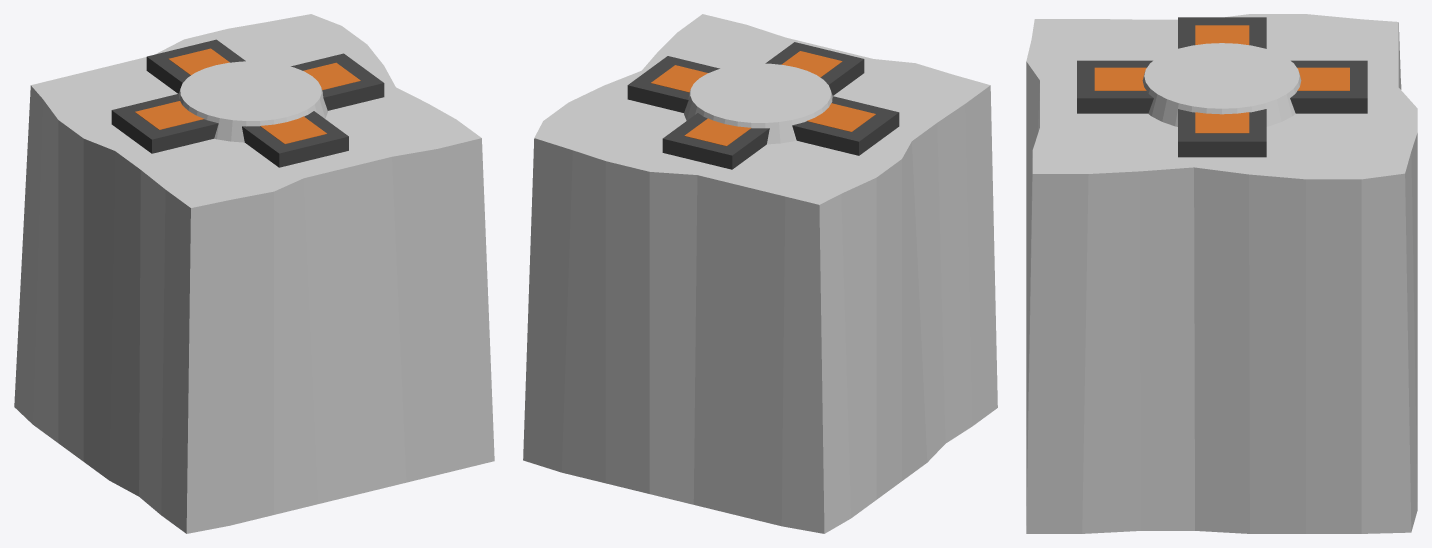
Rendered from repair_new.fbx.
3 renders of one model, left to right at view 1: azimuth 30°, elevation 25°; view 2: azimuth 150°, elevation 25°; view 3: azimuth 270°, elevation 25°, orthographic. The views are drawn at different scales.
Parts seen in each view (by area): view 1: RepairerModel; view 2: RepairerModel; view 3: RepairerModel.
Boxes of the visible parts, <box> form: RepairerModel: <box>14,14,494,533</box>; RepairerModel: <box>523,14,997,533</box>; RepairerModel: <box>1026,14,1417,533</box>.
Size of the model in its own units: 200 by 212 by 200.
